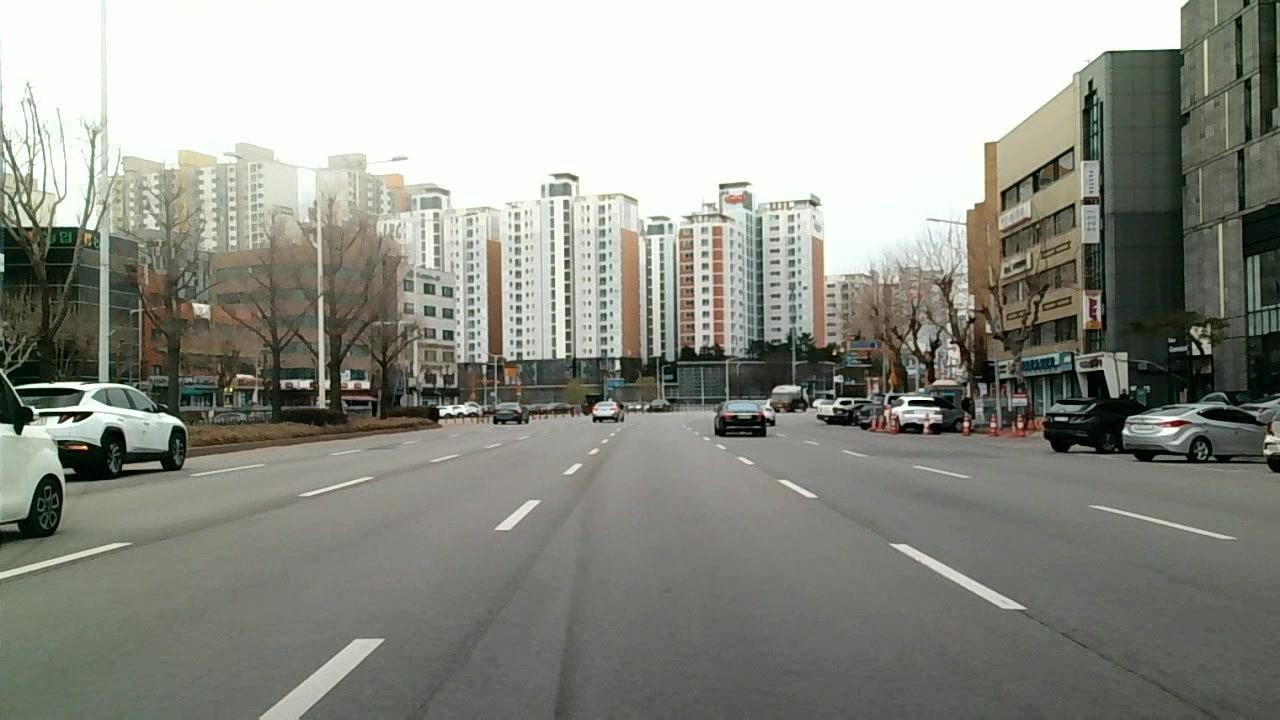banner: (1024, 606, 1228, 718), (409, 619, 485, 720), (488, 554, 538, 619), (130, 520, 213, 550)
